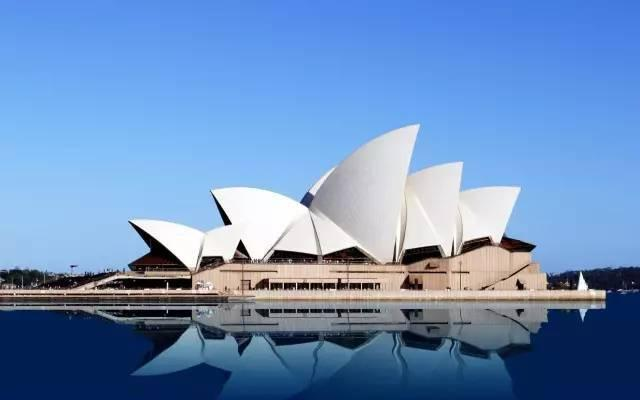buildings: (217, 136, 483, 276)
